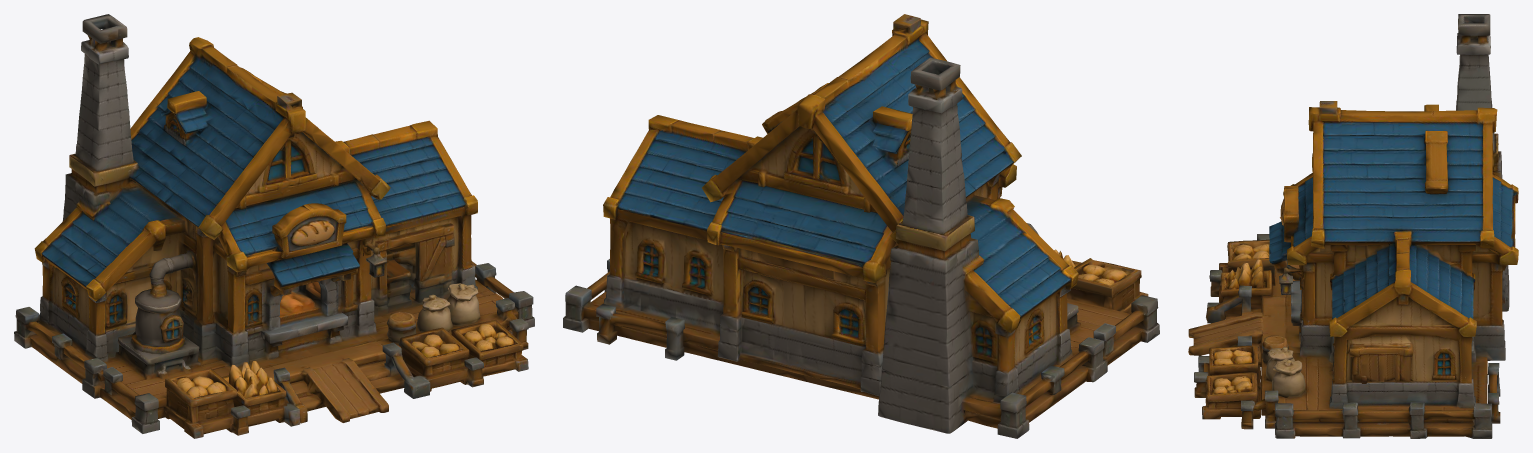
The model's file is bakery_stage2.glb.
3 renders of one model, left to right at view 1: azimuth 30°, elevation 25°; view 2: azimuth 150°, elevation 25°; view 3: azimuth 270°, elevation 25°, orthographic. The views are drawn at different scales.
Parts seen in each view (by area): view 1: tripo_node_ff2ff4a3-024b-4a18-af4b-2165c9f599e5; view 2: tripo_node_ff2ff4a3-024b-4a18-af4b-2165c9f599e5; view 3: tripo_node_ff2ff4a3-024b-4a18-af4b-2165c9f599e5.
Part boxes in pixels (x1,y1,x2,y2): tripo_node_ff2ff4a3-024b-4a18-af4b-2165c9f599e5: [14, 14, 534, 438]; tripo_node_ff2ff4a3-024b-4a18-af4b-2165c9f599e5: [563, 14, 1159, 438]; tripo_node_ff2ff4a3-024b-4a18-af4b-2165c9f599e5: [1188, 14, 1518, 438].
Size of the model in its own units: 1 by 0.7245 by 0.7764.
1 material, 1 textured.
